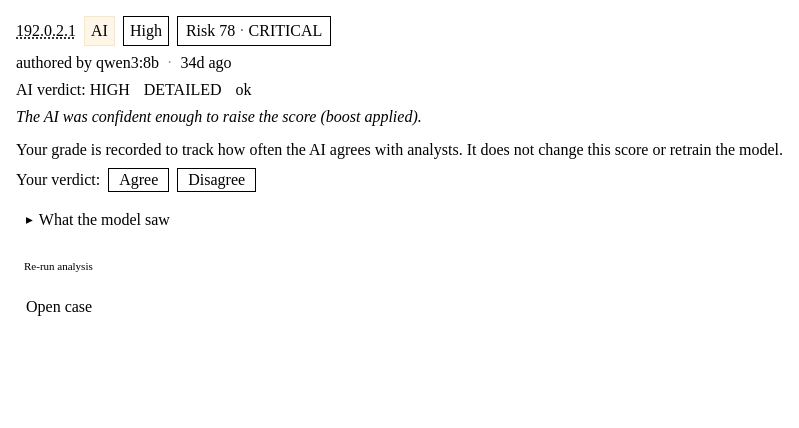
Test: MK-11 Fix 1 — VerdictCard RerunControl: static ticker visible after done › completed stage list is in the DOM after re-run stream completes
Click Re-run.
What coordinates should you click on to do the following:
click the button with test id "verdict-card-rerun-btn"
I would click on:
 (58, 266)
Its box is [16,257,101,275].
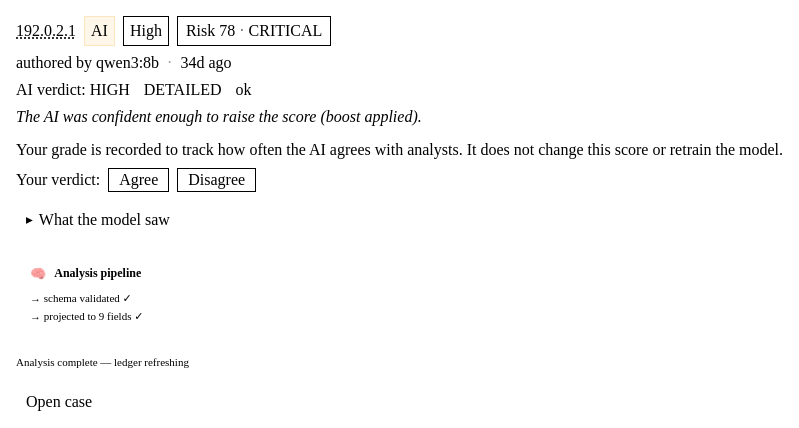
Check: the element with test id "stage-ticker" is shown, box [30,266,175,322]
Check: the text "Analysis complete — ledger refreshing" is shown, box [16,356,189,368]
Check: the element with test id "stage-ticker-lines" shows "schema validated ✓", box [44,292,132,304]
